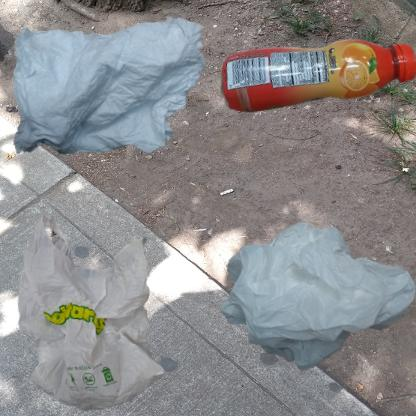bolsa: (213, 213, 416, 388), (10, 213, 177, 416)
botella: (213, 10, 416, 155)
papel: (10, 10, 209, 161)
